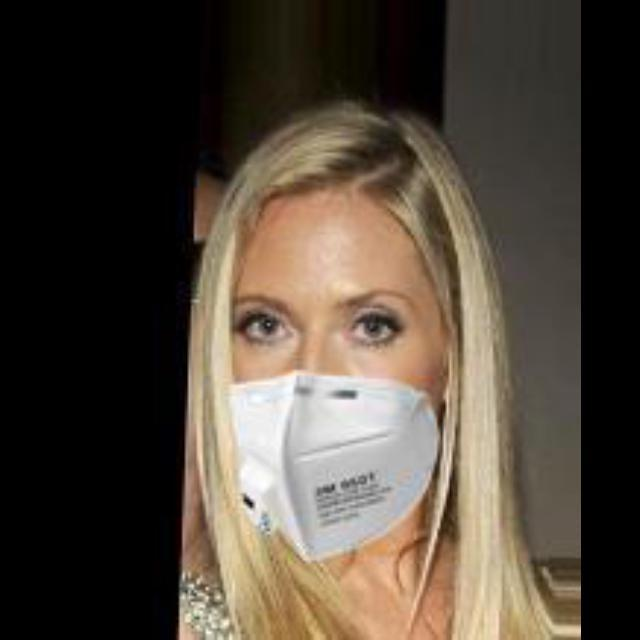suspicion: (220, 179, 442, 543)
